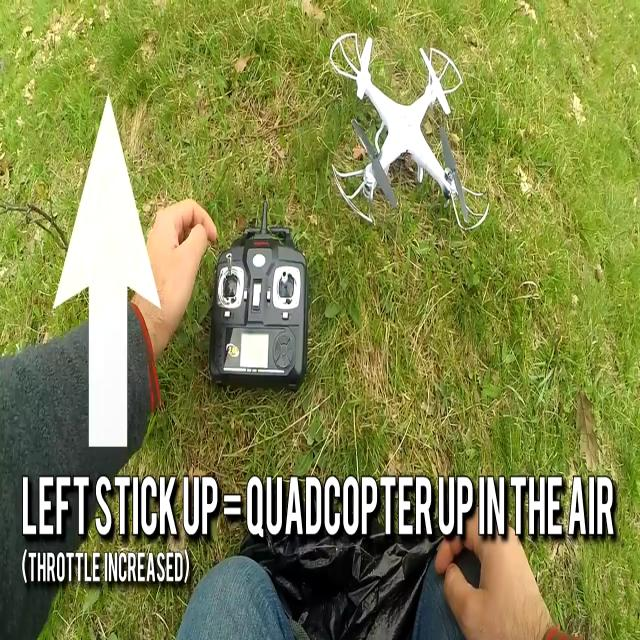drones: (322, 25, 491, 243)
